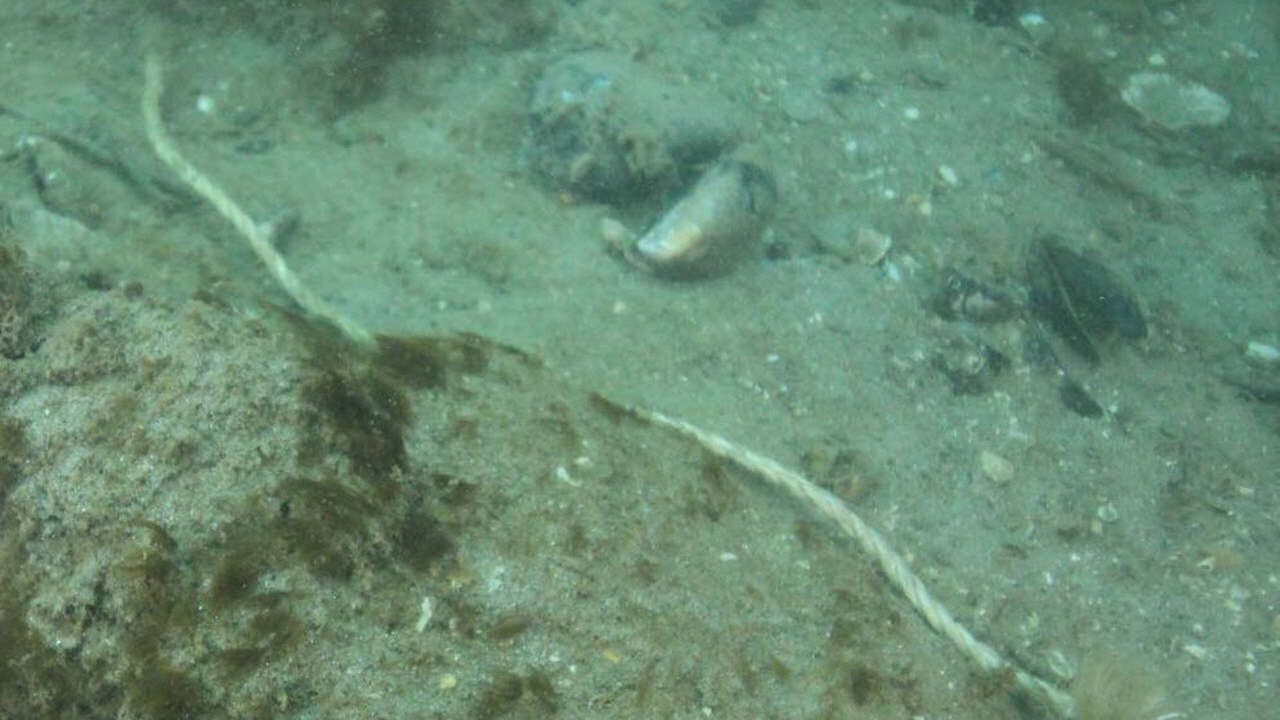rope: (650, 410, 1074, 720), (138, 57, 374, 346)
